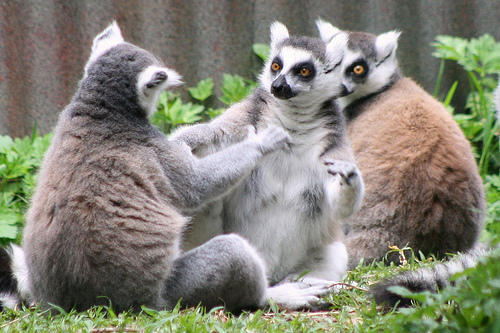cat: (1, 19, 329, 313), (165, 21, 364, 325), (314, 19, 490, 307)
